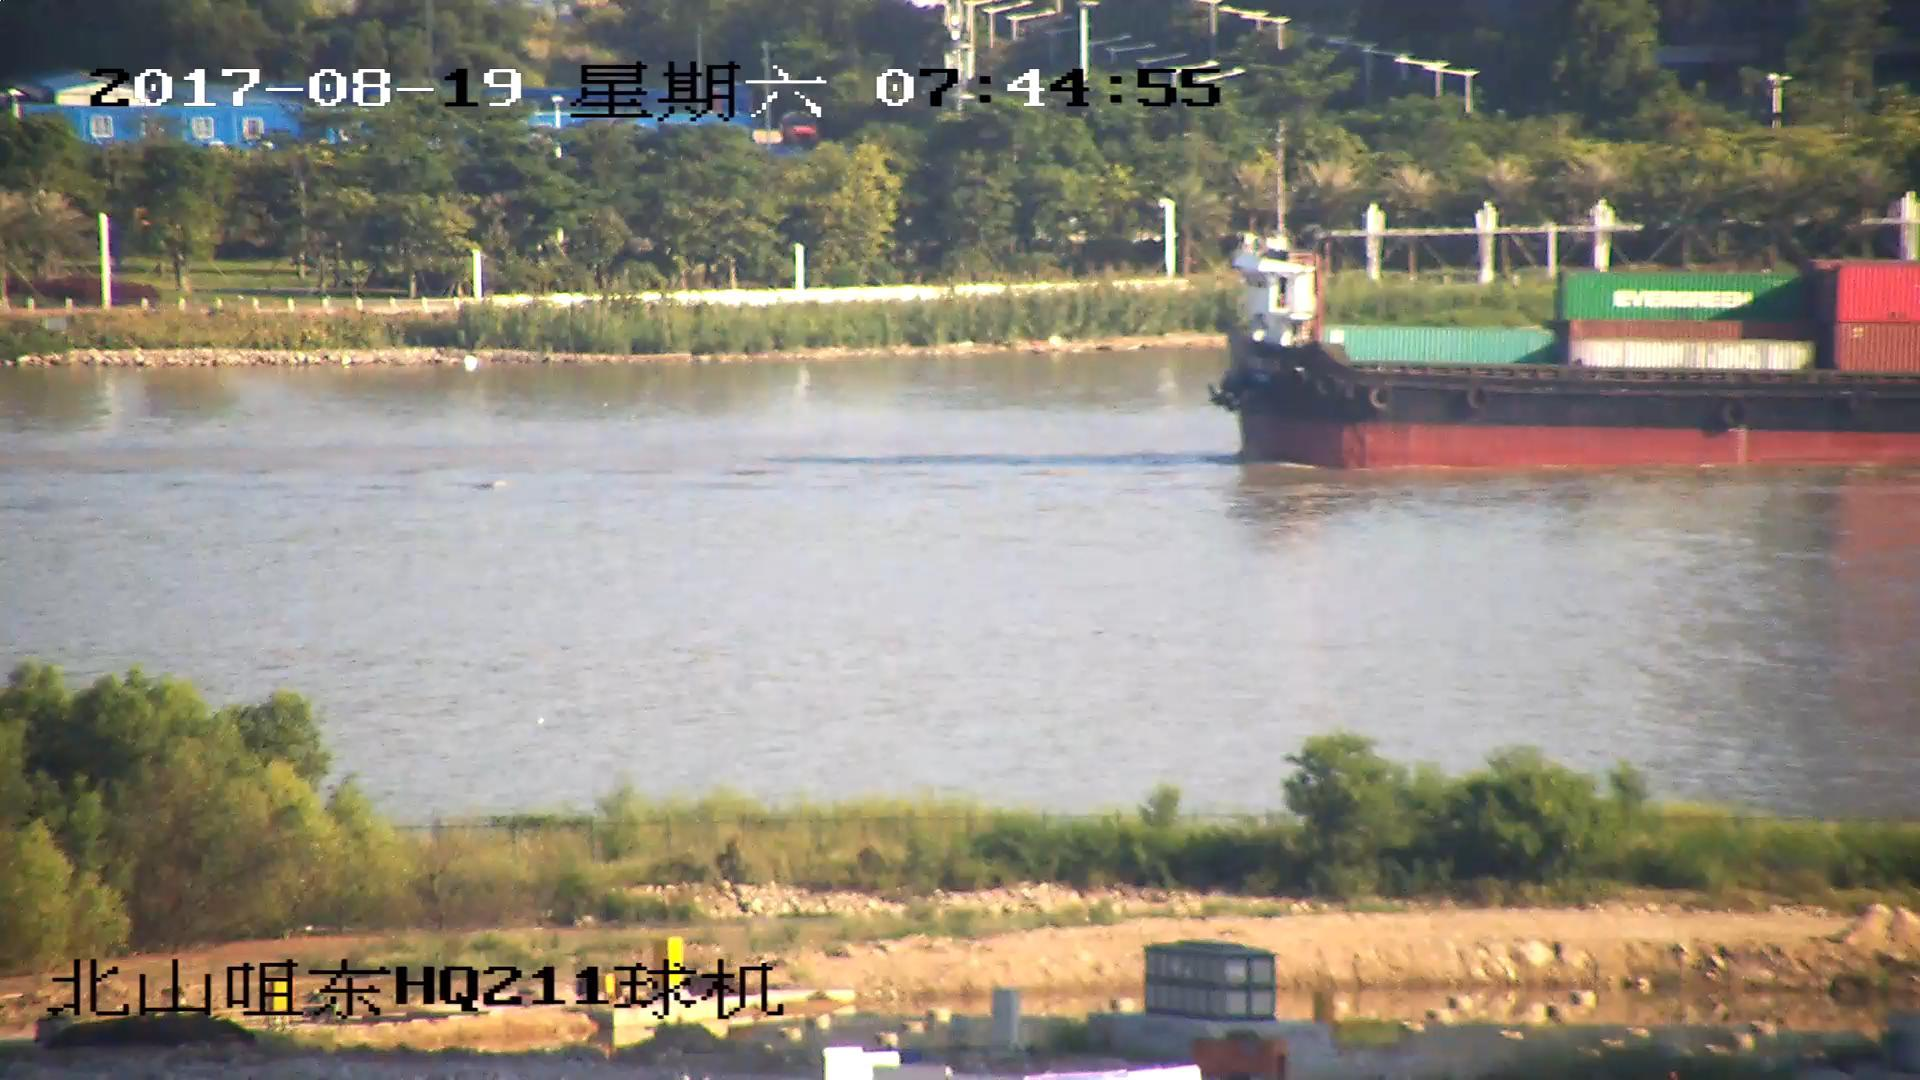Ship: (1208, 222, 1920, 473)
